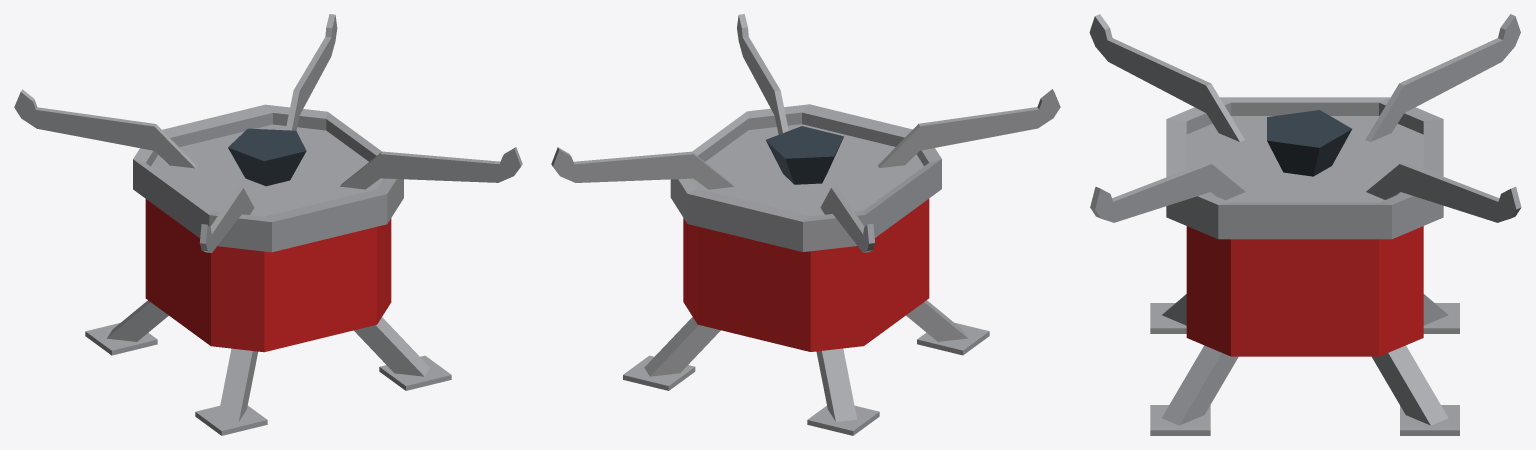
Rendered from Some_Sort_Of_Camping_Stove_I_Guess.fbx.
3 views of the same model, side by side, from view 1: azimuth 30°, elevation 25°; view 2: azimuth 150°, elevation 25°; view 3: azimuth 270°, elevation 25° (orthographic). The views are drawn at different scales.
Visible parts, largest first — view 1: Some_Sort_Of_Camping_Stove_I_Guess; view 2: Some_Sort_Of_Camping_Stove_I_Guess; view 3: Some_Sort_Of_Camping_Stove_I_Guess.
Part boxes in pixels (x1=…): Some_Sort_Of_Camping_Stove_I_Guess: x1=14, y1=14, x2=522, y2=435; Some_Sort_Of_Camping_Stove_I_Guess: x1=551, y1=14, x2=1060, y2=435; Some_Sort_Of_Camping_Stove_I_Guess: x1=1089, y1=14, x2=1521, y2=435.
Bounding box in the file's own units: 57.43 × 40.49 × 58.51.
